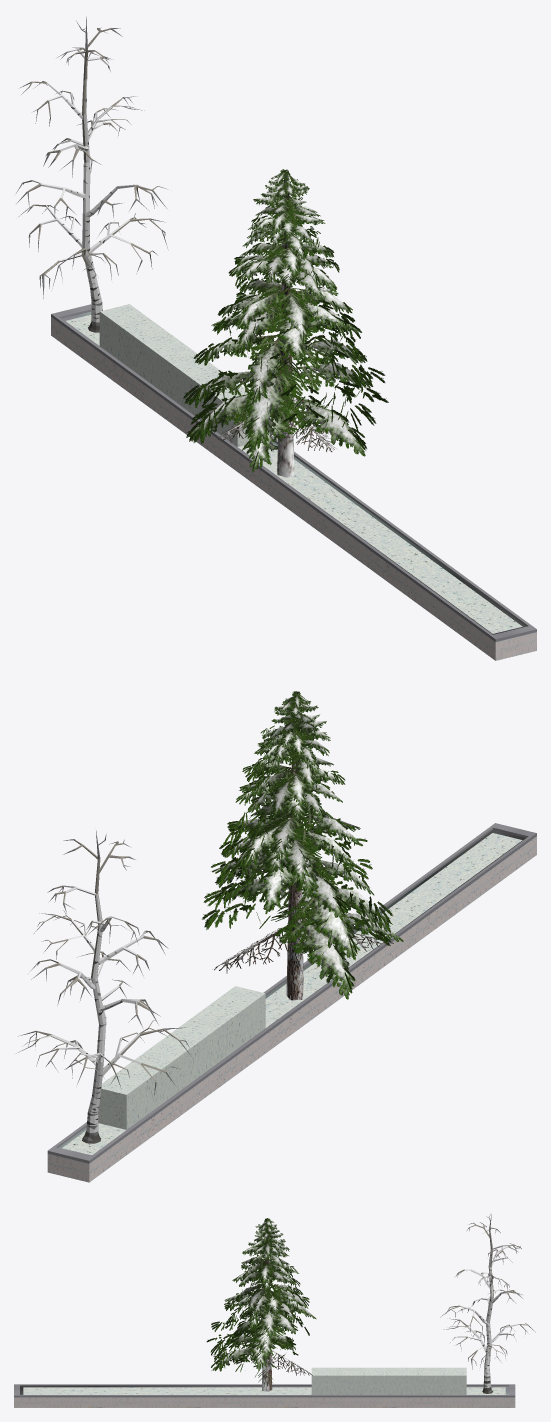
Rendered from snow_assets.fbx.
3 renders of one model, top to bottom at view 1: azimuth 30°, elevation 25°; view 2: azimuth 150°, elevation 25°; view 3: azimuth 270°, elevation 25°, orthographic. The views are drawn at different scales.
Visible parts, largest first — view 1: tree_1, base, grass, tree_2; view 2: tree_1, base, grass, tree_2; view 3: base, tree_1, grass, tree_2.
Boxes of the visible parts, left/top/right/bottom form: tree_1: left=183, top=169, right=388, bottom=477; base: left=51, top=304, right=536, bottom=660; grass: left=99, top=304, right=250, bottom=446; tree_2: left=16, top=17, right=167, bottom=332; tree_1: left=202, top=691, right=403, bottom=1000; base: left=47, top=823, right=536, bottom=1182; grass: left=98, top=986, right=265, bottom=1129; tree_2: left=16, top=830, right=193, bottom=1143; base: left=14, top=1384, right=515, bottom=1407; tree_1: left=206, top=1218, right=316, bottom=1391; grass: left=311, top=1367, right=466, bottom=1394; tree_2: left=440, top=1214, right=535, bottom=1393.
Bounding box in the file's own units: 38.5 × 62.79 × 158.
